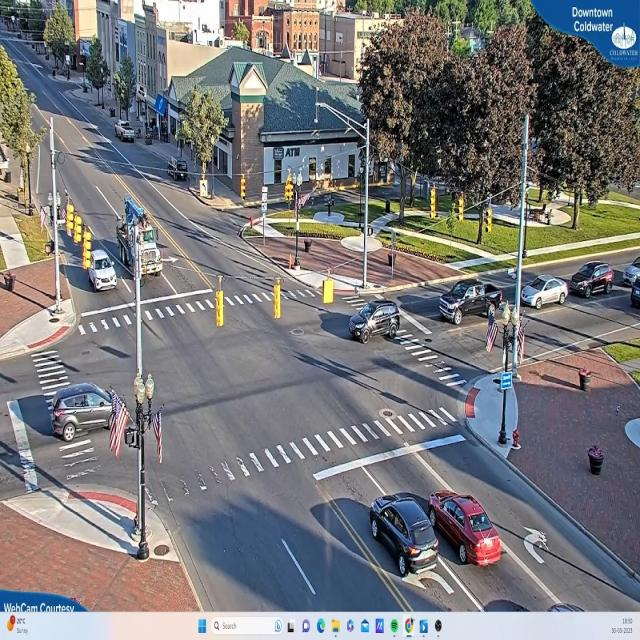car: (368, 492, 442, 578), (426, 491, 506, 568), (50, 381, 125, 441), (477, 267, 570, 310), (438, 281, 502, 321), (348, 300, 402, 342), (570, 262, 614, 302), (522, 274, 570, 308), (117, 122, 137, 144)
